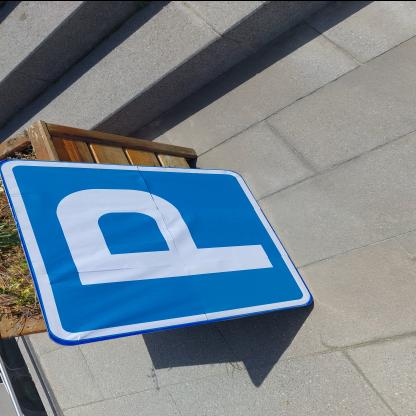Parking-Sign: (2, 159, 316, 345)
